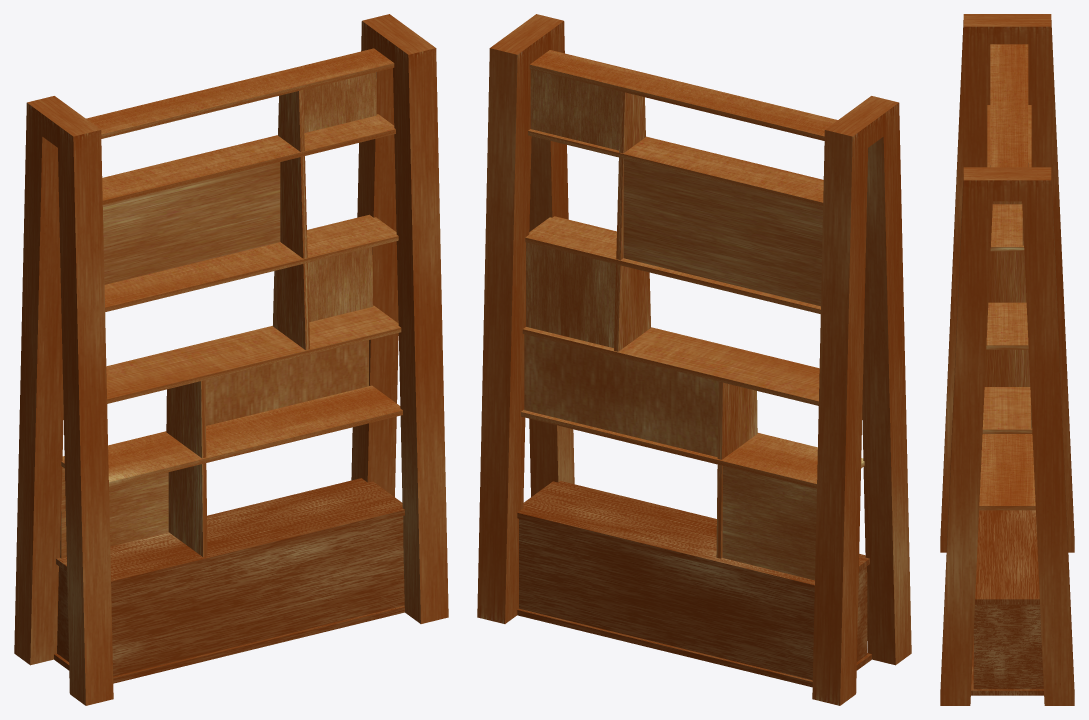
The model's file is store4.glb.
3 views of the same model, side by side, from view 1: azimuth 30°, elevation 25°; view 2: azimuth 150°, elevation 25°; view 3: azimuth 270°, elevation 25° (orthographic). The views are drawn at different scales.
Visible parts, largest first — view 1: bookShelfForPortfolio; view 2: bookShelfForPortfolio; view 3: bookShelfForPortfolio.
Boxes of the visible parts, x1=… form: bookShelfForPortfolio: x1=14, y1=14, x2=448, y2=705; bookShelfForPortfolio: x1=477, y1=14, x2=911, y2=705; bookShelfForPortfolio: x1=940, y1=14, x2=1074, y2=705.
Size of the model in its own units: 552 by 815 by 189.
5 materials, 5 textured.
